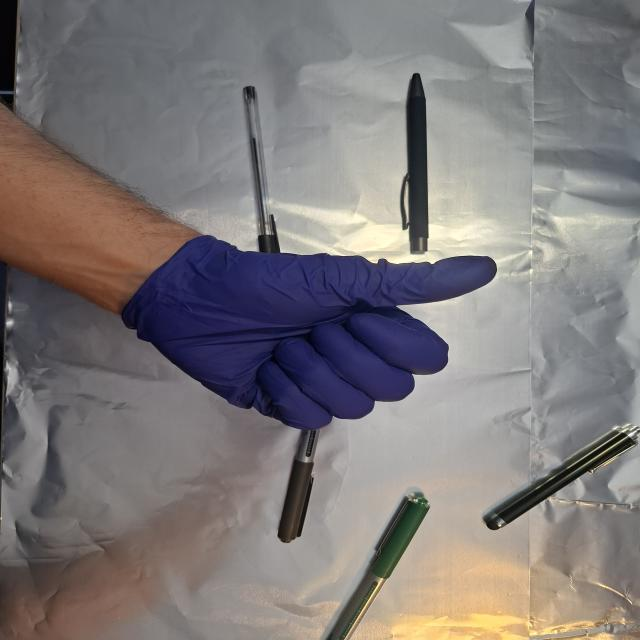glove_on: (121, 236, 502, 434)
